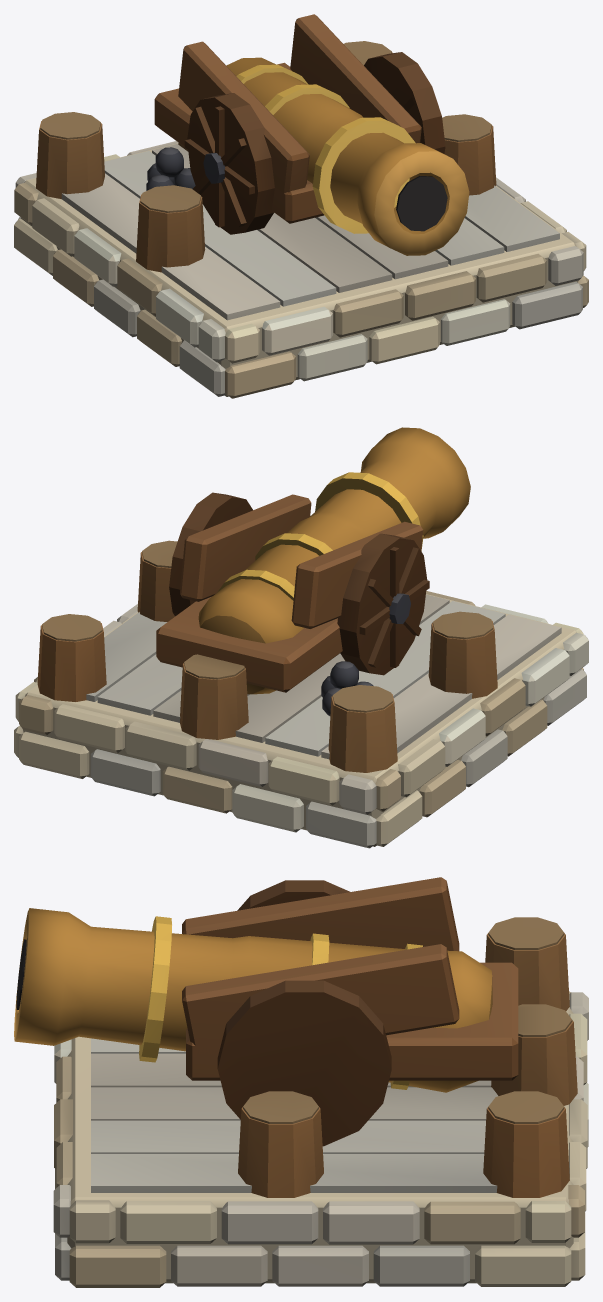
Rendered from cannon_tower.glb.
The picture shows the model from 3 angles, top to bottom: view 1: azimuth 30°, elevation 25°; view 2: azimuth 150°, elevation 25°; view 3: azimuth 270°, elevation 25°; orthographic projection. The views are drawn at different scales.
Visible parts, largest first — view 1: cannon_tower, head, barrel; view 2: cannon_tower, head, barrel; view 3: cannon_tower, head, barrel.
Boxes of the visible parts, x1,y1,x2,y2 form: cannon_tower: (14, 41, 588, 398); head: (154, 14, 445, 234); barrel: (226, 57, 469, 255); cannon_tower: (14, 540, 588, 848); head: (156, 492, 429, 692); barrel: (198, 427, 470, 694); cannon_tower: (53, 917, 588, 1287); head: (182, 877, 518, 1146); barrel: (14, 908, 492, 1092).
Bounding box in the file's own units: 0.6762 × 0.3699 × 0.7266.
